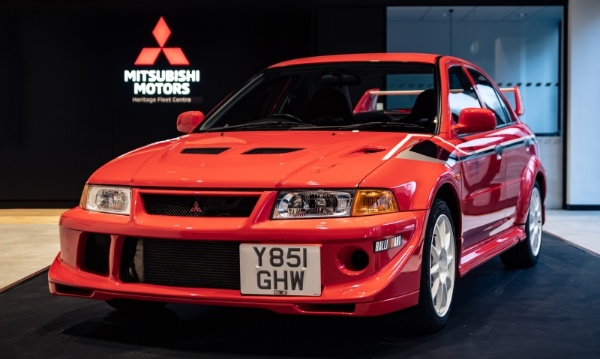licence: (237, 242, 331, 296)
